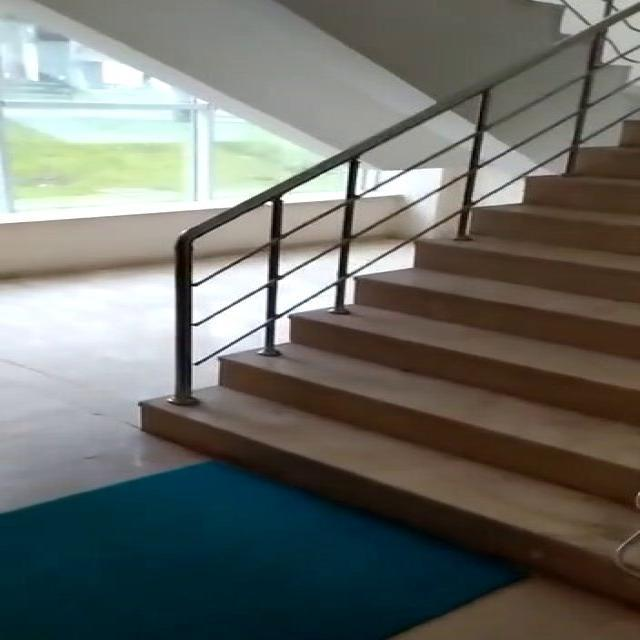stair: (126, 116, 640, 622)
